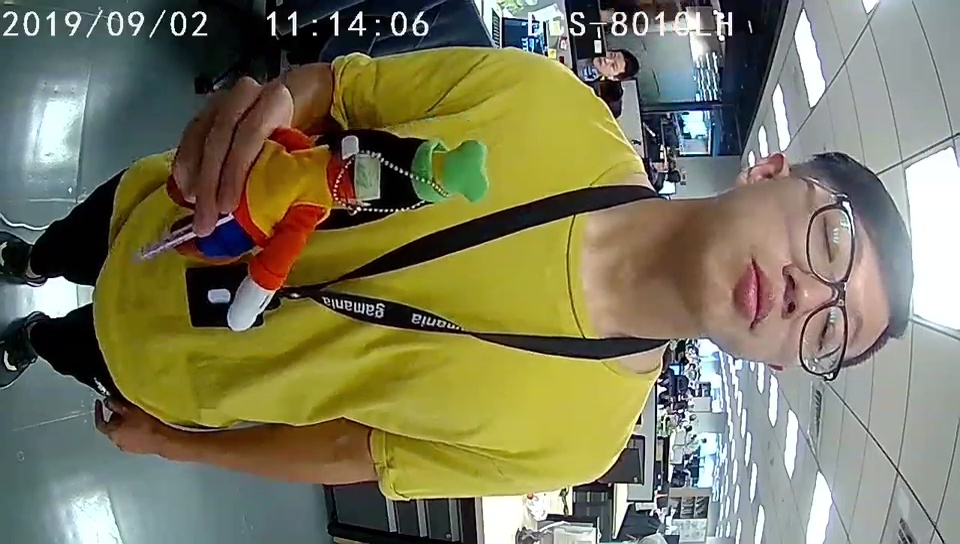goofy: (227, 134, 489, 333)
